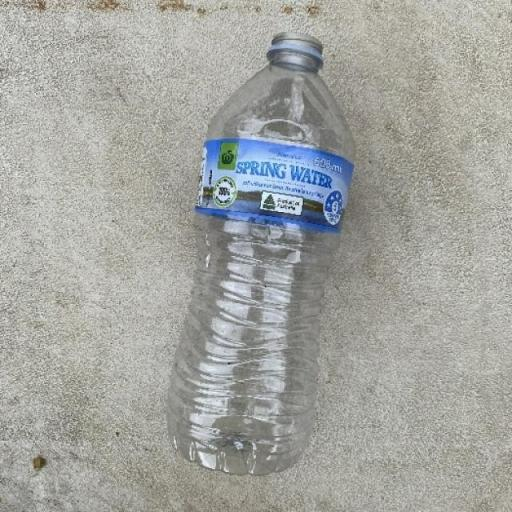plastic: (165, 30, 357, 476)
